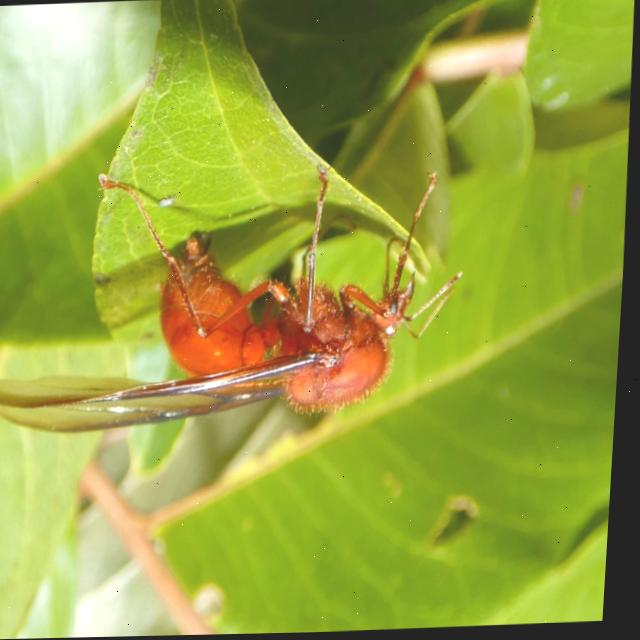Alive-Male-Alate: (0, 161, 474, 438)
